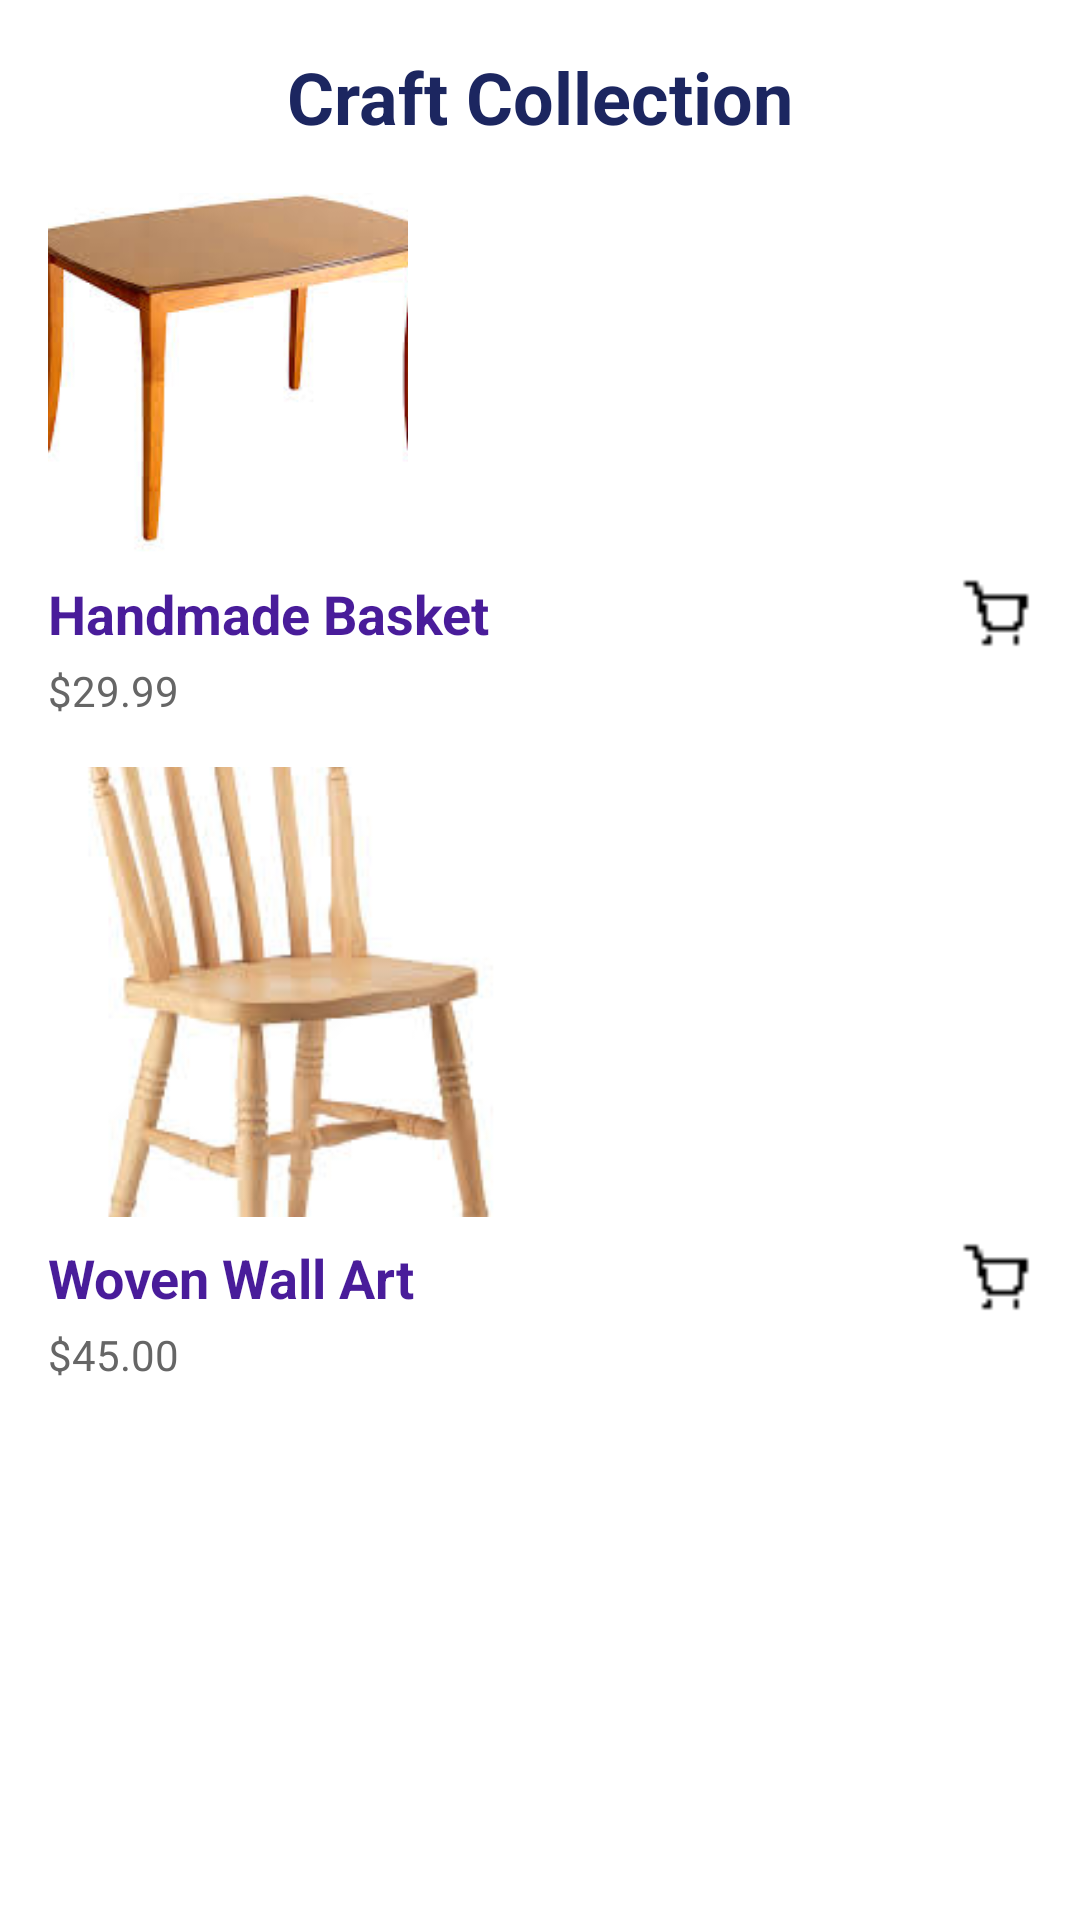

Named icons in this screenshot (1080px x 1920px) and their bounding boxes, (x1, y1, x2, y2):
Add to Cart: (963, 580, 1029, 646), (963, 1244, 1029, 1310)
Craft 1: (48, 195, 408, 542)
